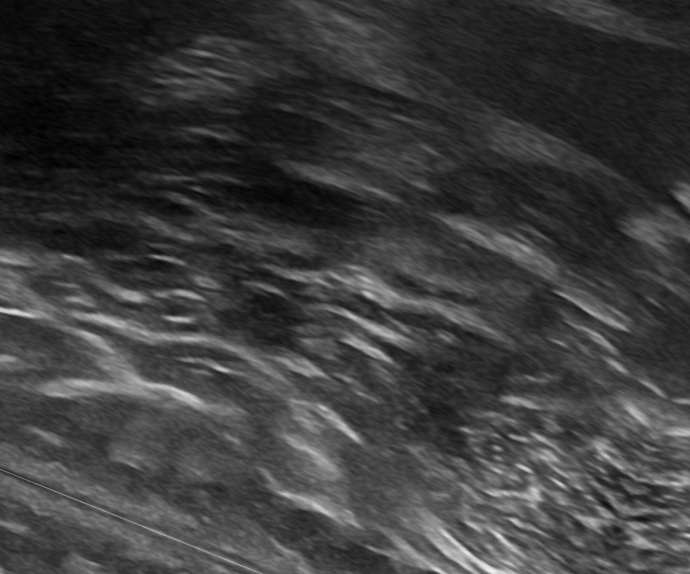Normal: (3, 30, 690, 565)
